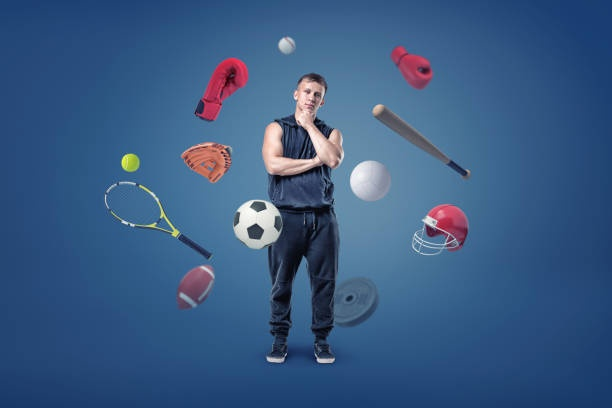bita: (367, 101, 471, 178)
